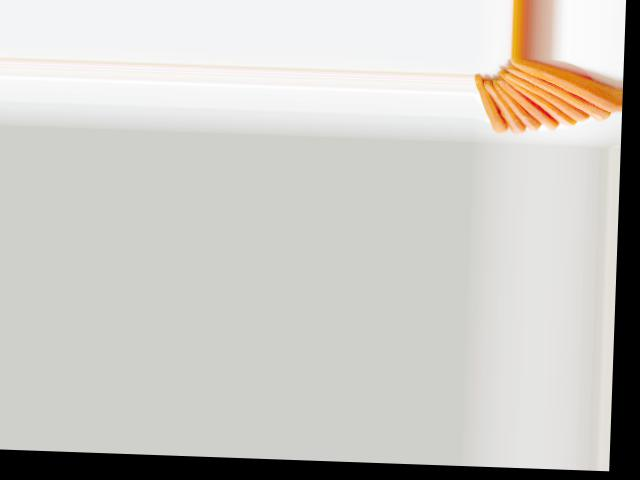carrot: (510, 59, 617, 110)
